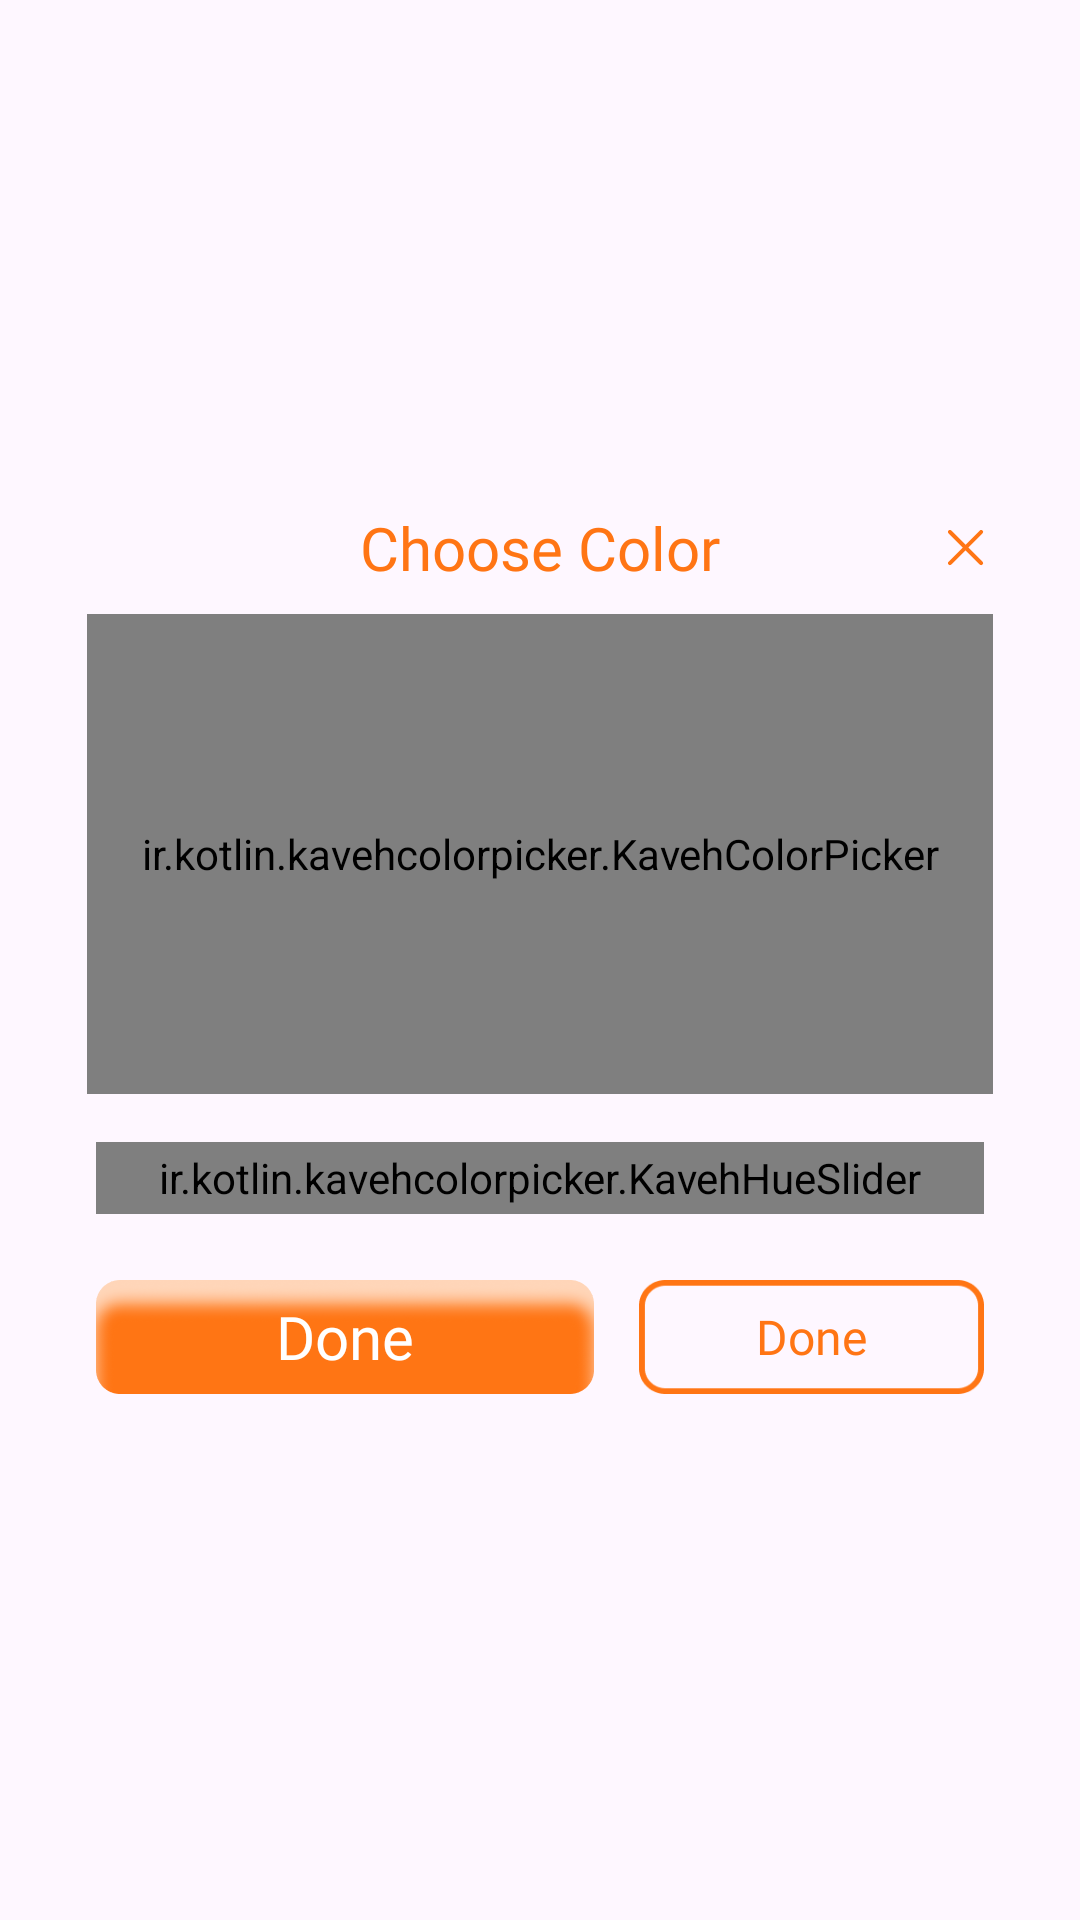

Named icons in this screenshot (1080*1920) and their centers, (x=x, y=y):
close: (x=965, y=547)
